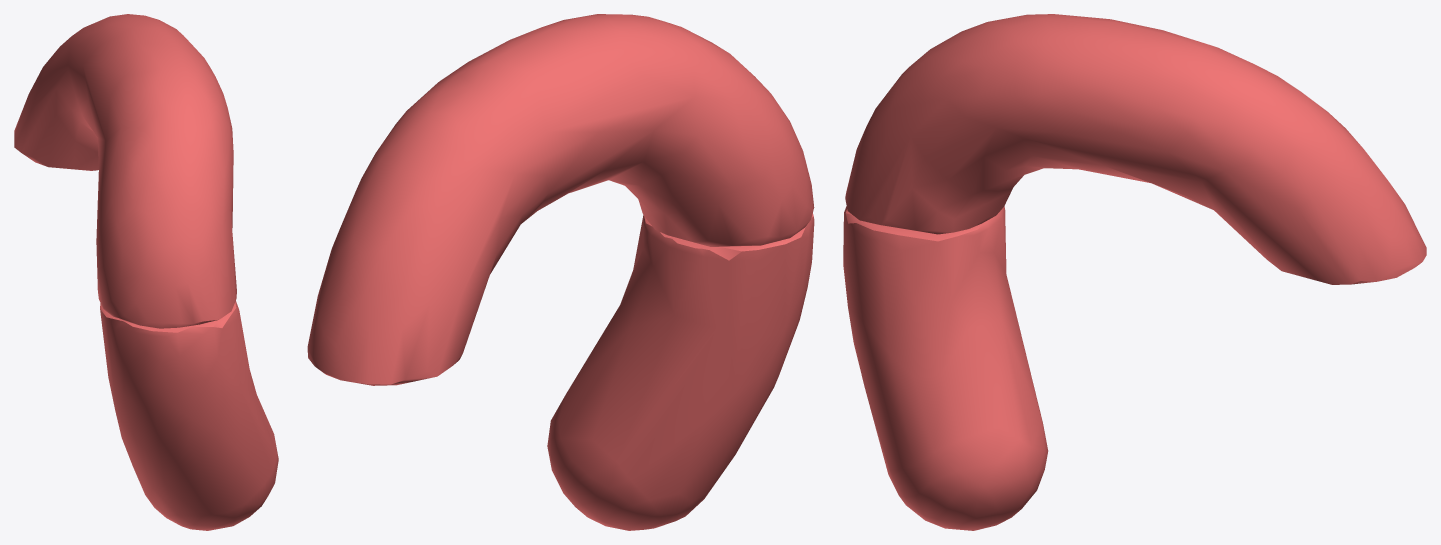
The model's file is arco-da-aorta.glb.
3 views of the same model, side by side, from view 1: azimuth 30°, elevation 25°; view 2: azimuth 150°, elevation 25°; view 3: azimuth 270°, elevation 25° (orthographic). The views are drawn at different scales.
Visible parts, largest first — view 1: arco-da-aorta; view 2: arco-da-aorta; view 3: arco-da-aorta.
Part boxes in pixels (box(x1,y1,x2,y2)): arco-da-aorta: box(14, 14, 278, 530); arco-da-aorta: box(307, 14, 814, 530); arco-da-aorta: box(843, 14, 1426, 530).
Bounding box in the file's own units: 0.0417 × 0.083 × 0.0876.
